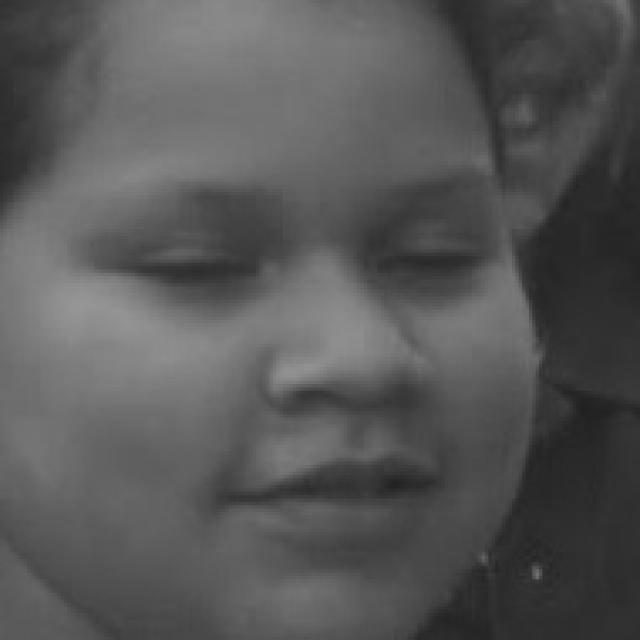real: (0, 0, 536, 640), (76, 206, 502, 318)
